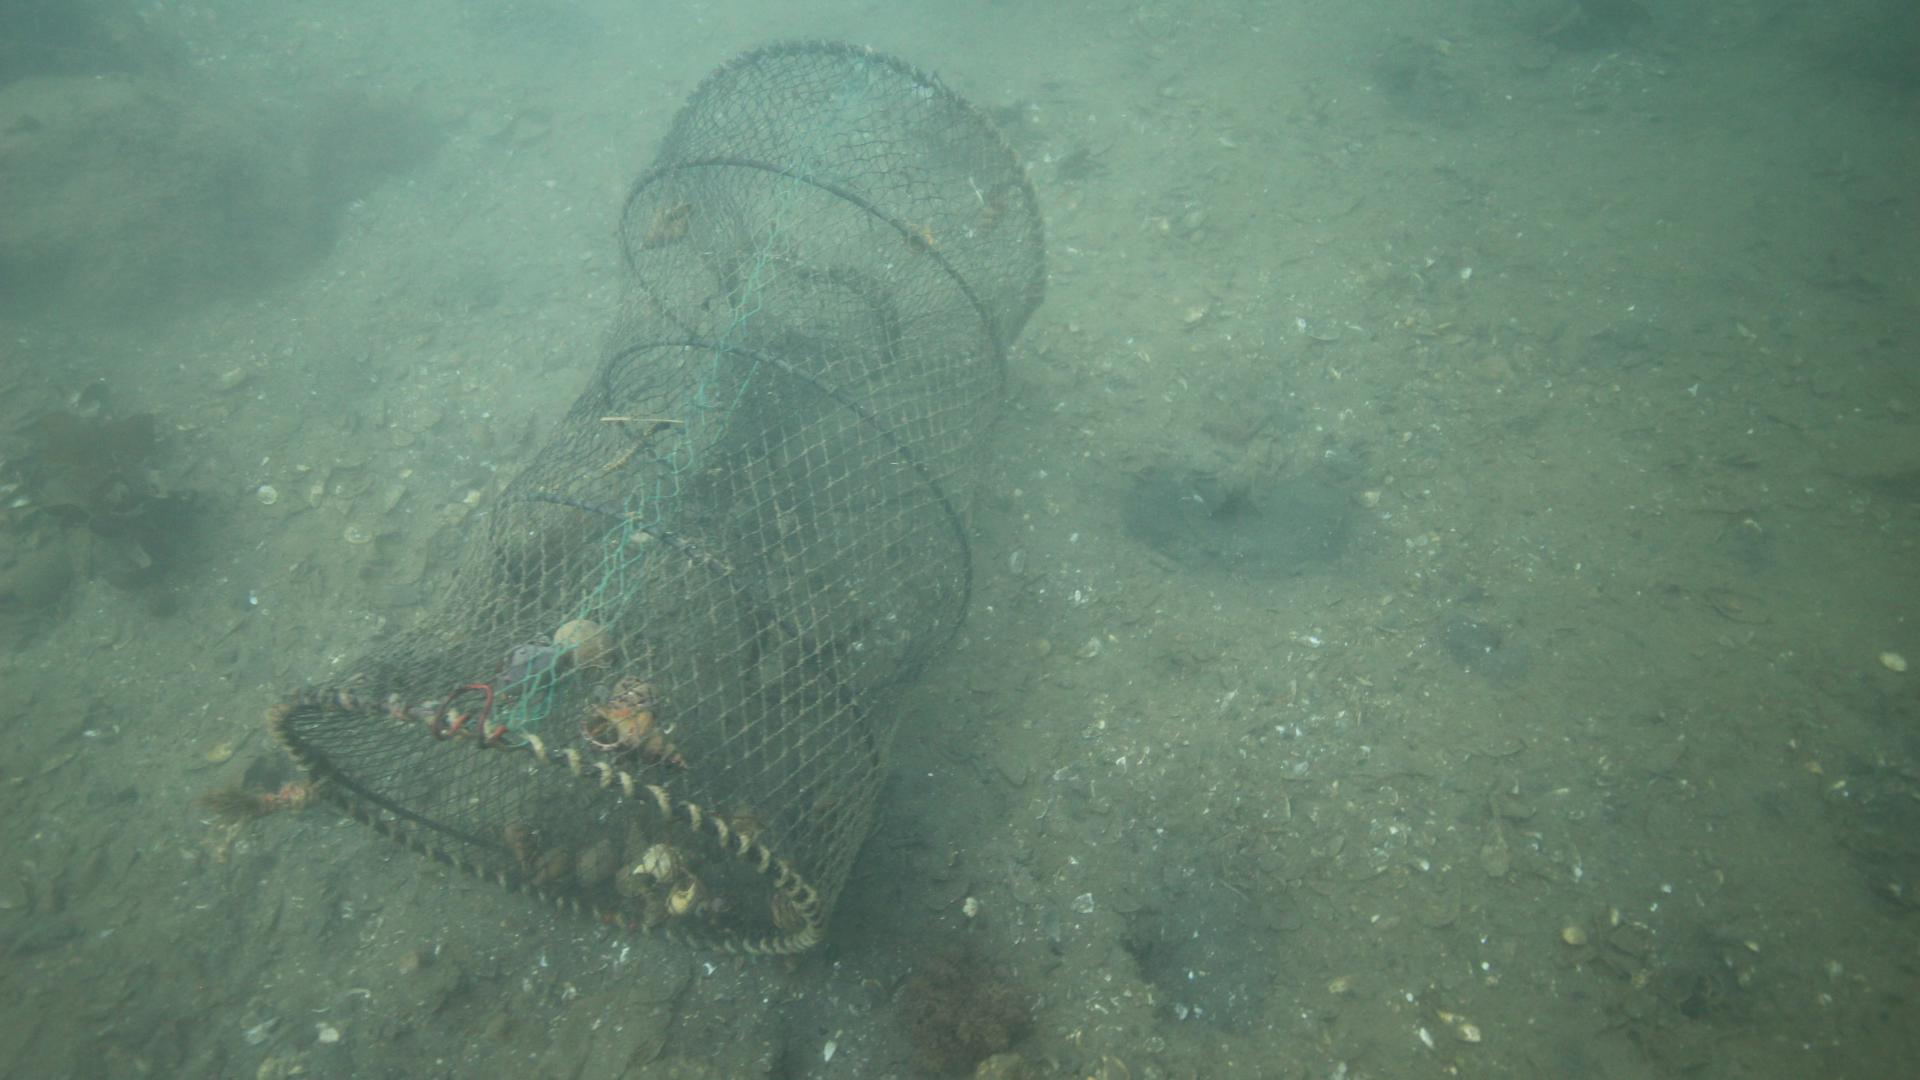spring fish trap: (270, 40, 1051, 953)
